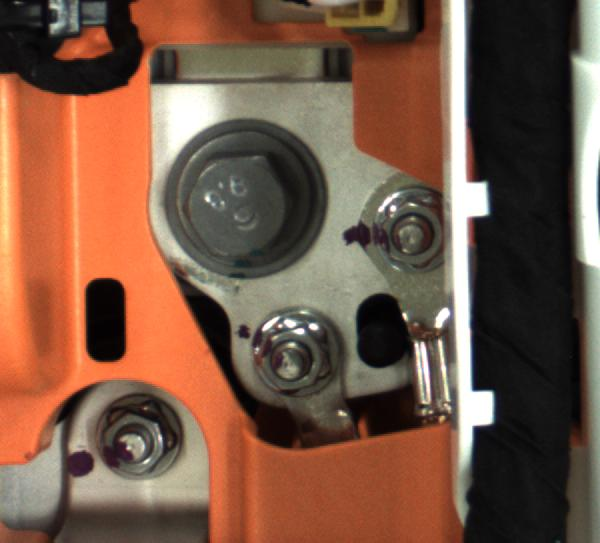nut_b: (158, 117, 345, 287)
screw_s: (81, 394, 196, 482), (256, 313, 362, 397), (375, 189, 466, 281)
